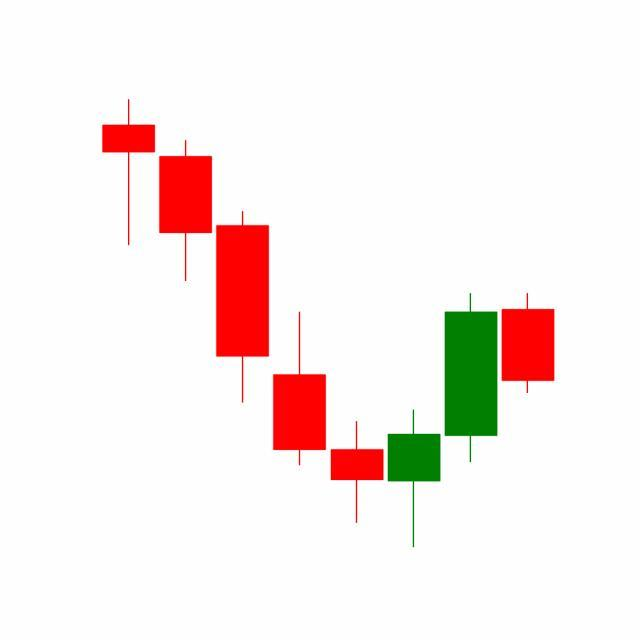Three Outside Up-Down: (328, 290, 500, 549)
